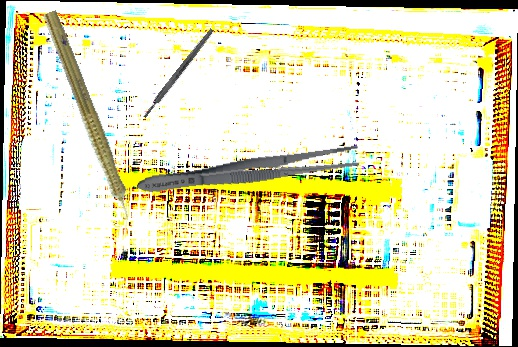Dressing Forceps: (135, 140, 362, 201)
Handpiece: (34, 8, 145, 238)
Scalpel Handle: (141, 27, 216, 120)
